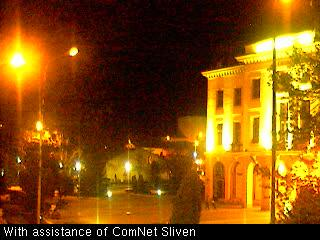person: (203, 195, 211, 211), (212, 194, 218, 211)
